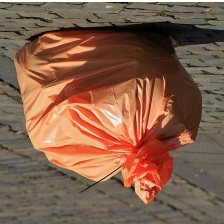plastic_bag: (12, 13, 211, 208)
